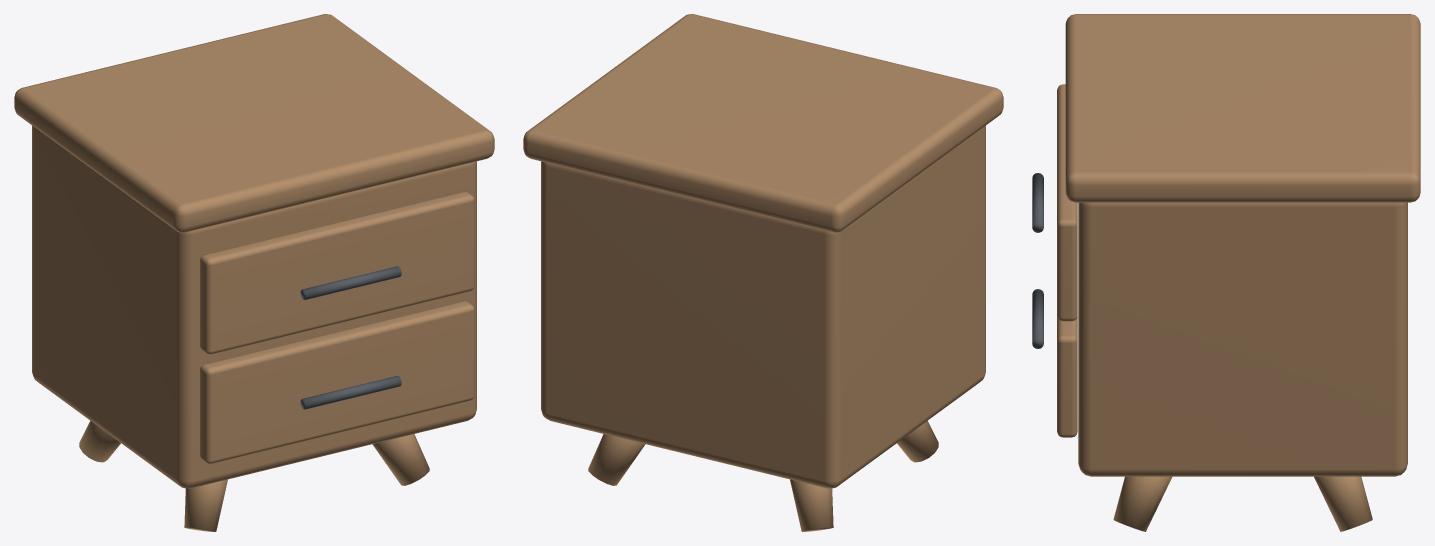
The model's file is atelier-nightstand.glb.
3 renders of one model, left to right at view 1: azimuth 30°, elevation 25°; view 2: azimuth 150°, elevation 25°; view 3: azimuth 270°, elevation 25°, orthographic. The views are drawn at different scales.
Visible parts, largest first — view 1: legs.040, metal.008; view 2: legs.040; view 3: legs.040, metal.008.
Part boxes in pixels (x1=…): legs.040: x1=14, y1=14, x2=494, y2=531; metal.008: x1=300, y1=266, x2=401, y2=409; legs.040: x1=523, y1=14, x2=1003, y2=531; legs.040: x1=1057, y1=14, x2=1420, y2=531; metal.008: x1=1032, y1=173, x2=1043, y2=348.
Bounding box in the file's own units: 0.535 × 0.5793 × 0.5305.
